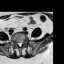CCS_stenosis: (19, 40, 21, 48)
LFS_stenosis: (23, 39, 24, 45)
LLS_normal: (21, 40, 23, 46)
RFS_stenosis: (15, 40, 17, 46)
RLS_normal: (17, 40, 19, 47)
